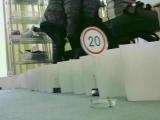speed_20: (77, 25, 108, 56)
